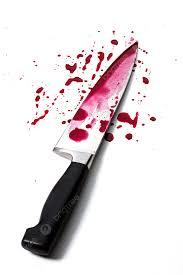Knife: (20, 40, 138, 257)
